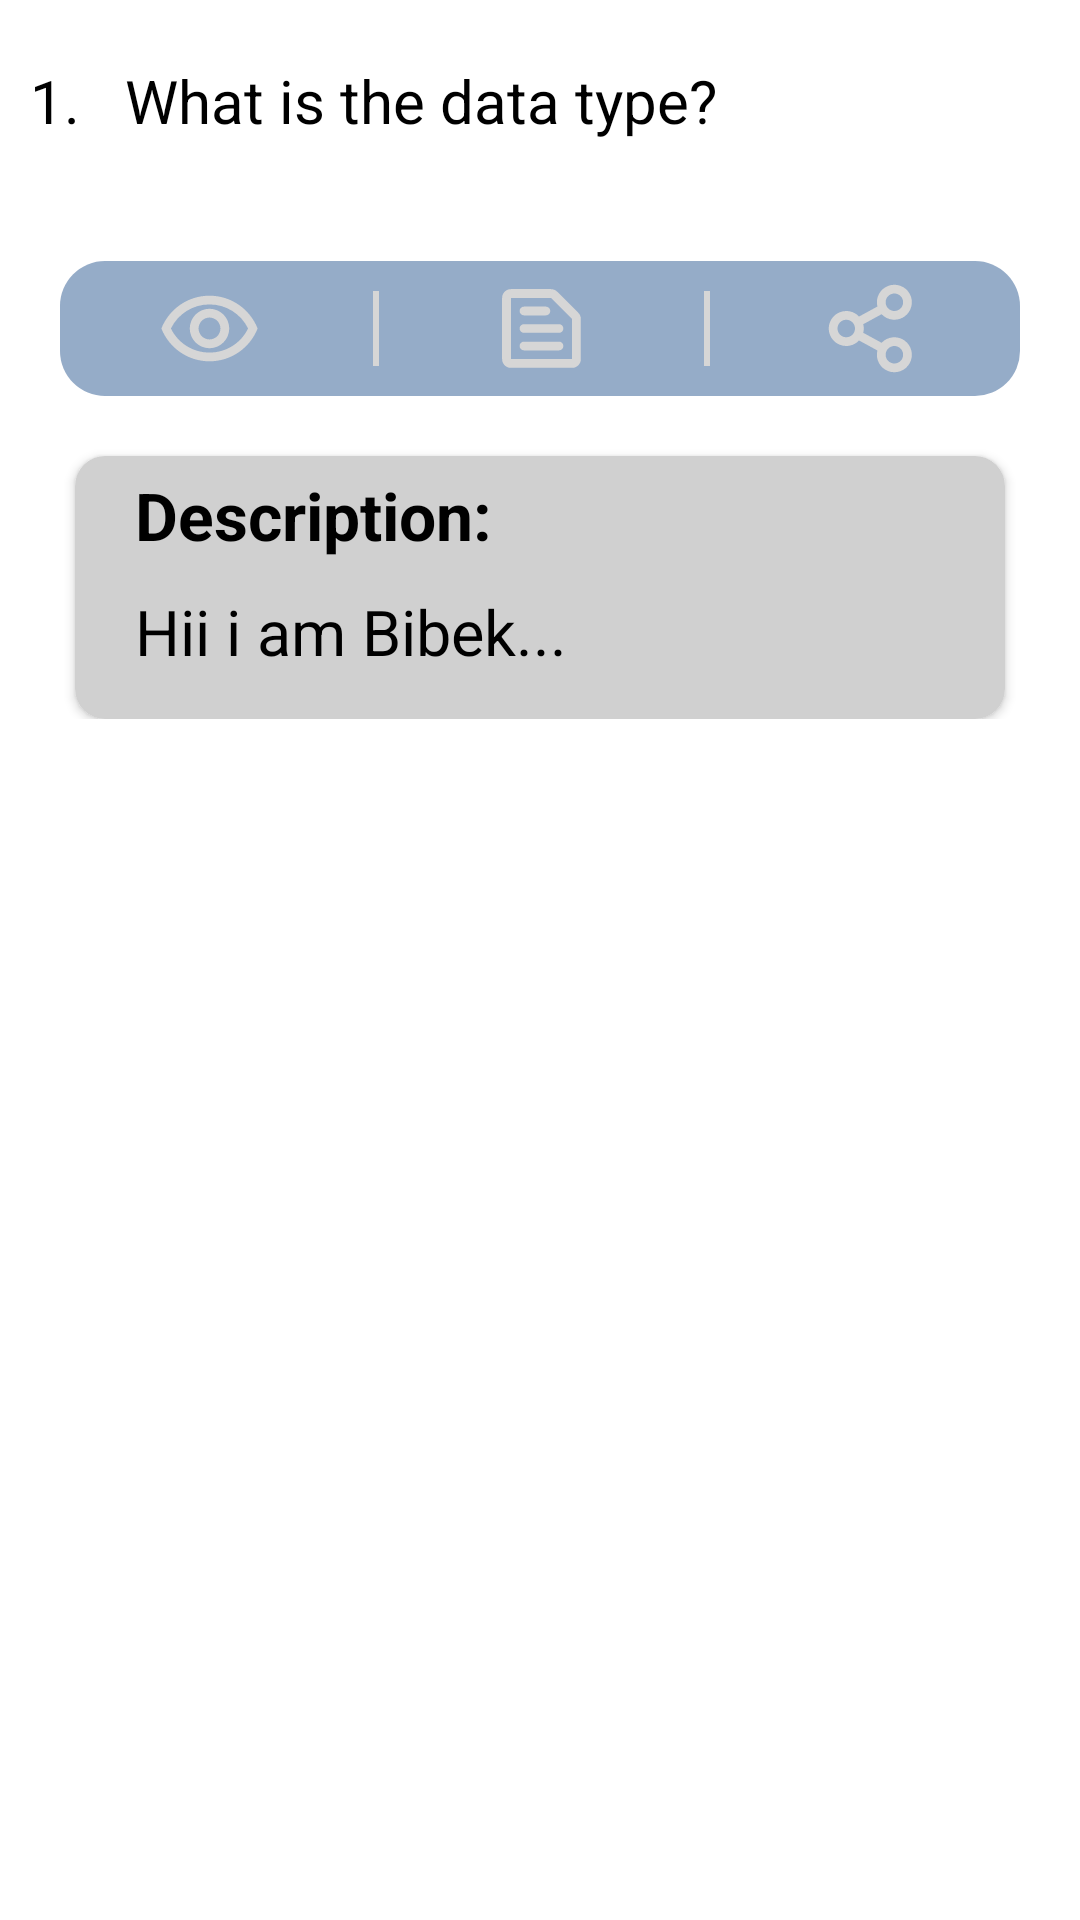

Where to tap for icons on this 1080x1920 app screen, as (x,y):
discript: (541,328)
eye: (209,328)
share: (870,328)
